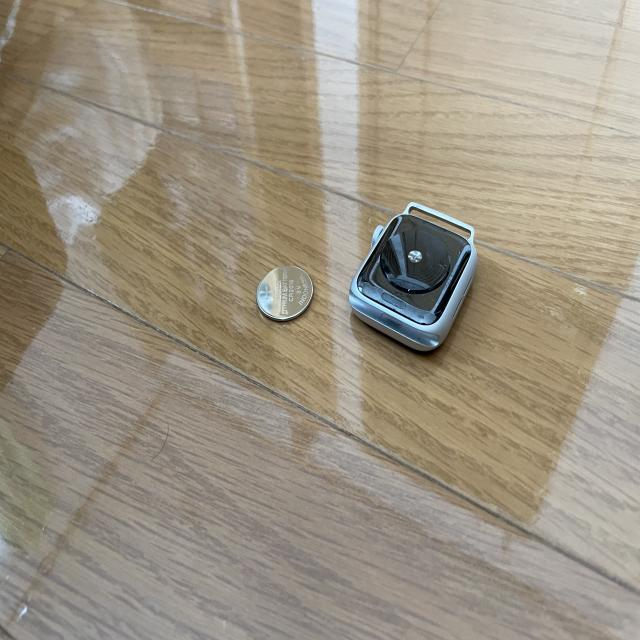COIN: (256, 265, 314, 323)
